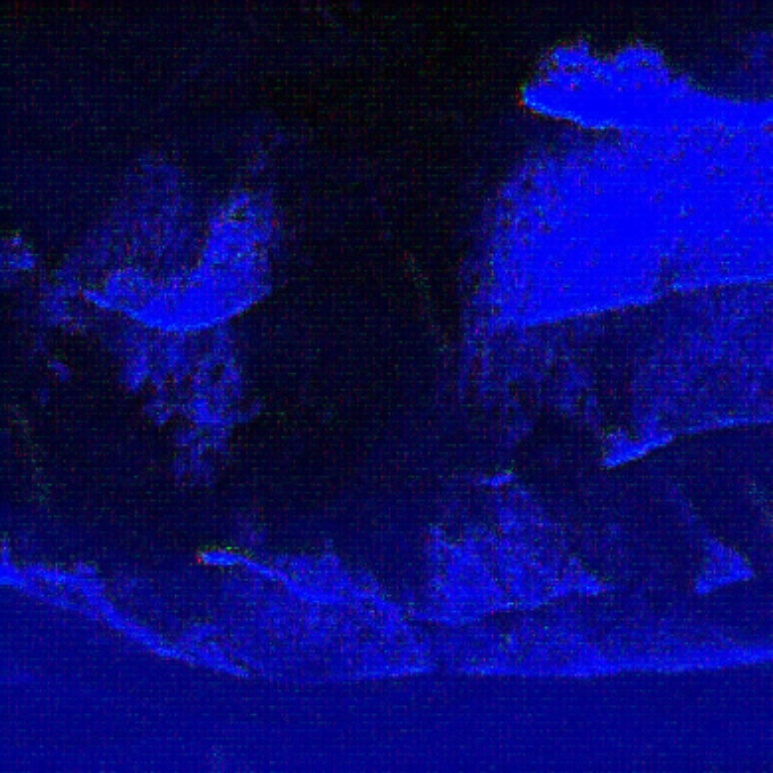rip_current: (173, 114, 568, 588)
